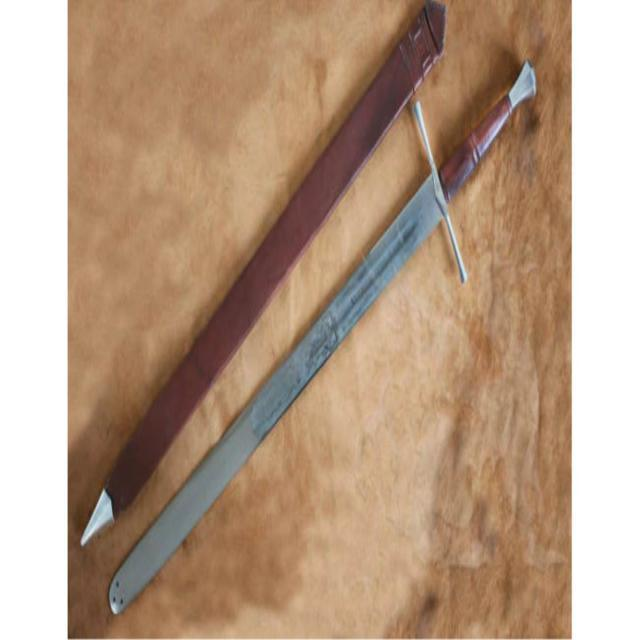sword: (109, 56, 538, 618)
